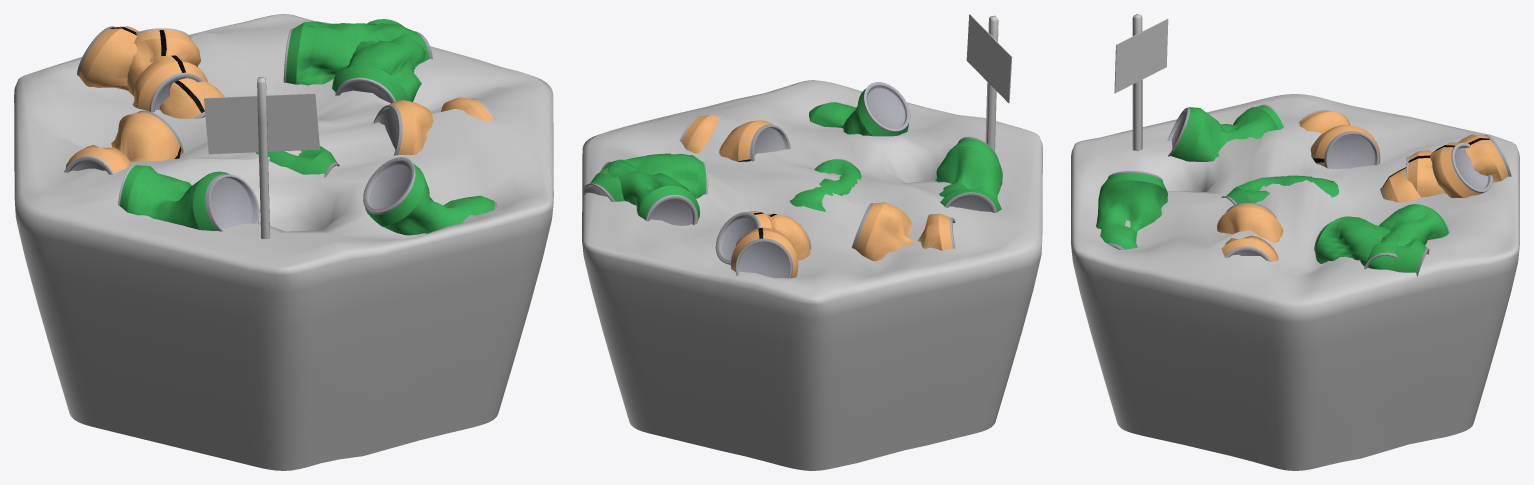
File: Bin-top_MES.fbx
The picture shows the model from 3 angles, left to right: view 1: azimuth 30°, elevation 25°; view 2: azimuth 150°, elevation 25°; view 3: azimuth 270°, elevation 25°; orthographic projection. The views are drawn at different scales.
Parts seen in each view (by area): view 1: BinTop, LINK_CrushedCan.009|CrushedCan.003_L_LINK_CrushedCan.blend|D, Sign-display, LINK_CrushedCan.008|CrushedCan.003_L_LINK_CrushedCan.blend|D, LINK_CrushedCan.001|CrushedCan.001_L_LINK_CrushedCan.blend|D, LINK_CrushedCan.002|CrushedCan.003_L_LINK_CrushedCan.blend|D, LINK_CrushedCan.003|CrushedCan.003_L_LINK_CrushedCan.blend|D, LINK_CrushedCan.007|CrushedCan.001_L_LINK_CrushedCan.blend|D, LINK_CrushedCan.004|CrushedCan.001_L_LINK_CrushedCan.blend|D, LINK_CrushedCan.006|CrushedCan.001_L_LINK_CrushedCan.blend|D, Sign-post, LINK_CrushedCan.005|CrushedCan.003_L_LINK_CrushedCan.blend|D; view 2: BinTop, LINK_CrushedCan.009|CrushedCan.003_L_LINK_CrushedCan.blend|D, LINK_CrushedCan.001|CrushedCan.001_L_LINK_CrushedCan.blend|D, LINK_CrushedCan.008|CrushedCan.003_L_LINK_CrushedCan.blend|D, LINK_CrushedCan.007|CrushedCan.001_L_LINK_CrushedCan.blend|D, LINK_CrushedCan.002|CrushedCan.003_L_LINK_CrushedCan.blend|D, LINK_CrushedCan.006|CrushedCan.001_L_LINK_CrushedCan.blend|D, LINK_CrushedCan.003|CrushedCan.003_L_LINK_CrushedCan.blend|D, Sign-display, LINK_CrushedCan.005|CrushedCan.003_L_LINK_CrushedCan.blend|D, LINK_CrushedCan.004|CrushedCan.001_L_LINK_CrushedCan.blend|D, Sign-post; view 3: BinTop, LINK_CrushedCan.008|CrushedCan.003_L_LINK_CrushedCan.blend|D, LINK_CrushedCan.009|CrushedCan.003_L_LINK_CrushedCan.blend|D, LINK_CrushedCan.003|CrushedCan.003_L_LINK_CrushedCan.blend|D, LINK_CrushedCan.007|CrushedCan.001_L_LINK_CrushedCan.blend|D, LINK_CrushedCan.004|CrushedCan.001_L_LINK_CrushedCan.blend|D, LINK_CrushedCan.006|CrushedCan.001_L_LINK_CrushedCan.blend|D, LINK_CrushedCan.001|CrushedCan.001_L_LINK_CrushedCan.blend|D, Sign-display, LINK_CrushedCan.002|CrushedCan.003_L_LINK_CrushedCan.blend|D, LINK_CrushedCan.005|CrushedCan.003_L_LINK_CrushedCan.blend|D, Sign-post.
Part boxes in pixels (<box>): BinTop: <box>14,14,553,470</box>; LINK_CrushedCan.009|CrushedCan.003_L_LINK_CrushedCan.blend|D: <box>118,164,259,231</box>; Sign-display: <box>204,93,319,154</box>; LINK_CrushedCan.008|CrushedCan.003_L_LINK_CrushedCan.blend|D: <box>363,157,497,235</box>; LINK_CrushedCan.001|CrushedCan.001_L_LINK_CrushedCan.blend|D: <box>77,26,207,112</box>; LINK_CrushedCan.002|CrushedCan.003_L_LINK_CrushedCan.blend|D: <box>283,21,432,85</box>; LINK_CrushedCan.003|CrushedCan.003_L_LINK_CrushedCan.blend|D: <box>332,19,426,103</box>; LINK_CrushedCan.007|CrushedCan.001_L_LINK_CrushedCan.blend|D: <box>64,110,183,174</box>; LINK_CrushedCan.004|CrushedCan.001_L_LINK_CrushedCan.blend|D: <box>127,28,224,118</box>; LINK_CrushedCan.006|CrushedCan.001_L_LINK_CrushedCan.blend|D: <box>373,97,496,155</box>; Sign-post: <box>257,77,270,238</box>; LINK_CrushedCan.005|CrushedCan.003_L_LINK_CrushedCan.blend|D: <box>256,146,339,177</box>; BinTop: <box>582,80,1042,470</box>; LINK_CrushedCan.009|CrushedCan.003_L_LINK_CrushedCan.blend|D: <box>935,136,1002,212</box>; LINK_CrushedCan.001|CrushedCan.001_L_LINK_CrushedCan.blend|D: <box>731,213,811,278</box>; LINK_CrushedCan.008|CrushedCan.003_L_LINK_CrushedCan.blend|D: <box>809,82,910,136</box>; LINK_CrushedCan.007|CrushedCan.001_L_LINK_CrushedCan.blend|D: <box>851,202,955,261</box>; LINK_CrushedCan.002|CrushedCan.003_L_LINK_CrushedCan.blend|D: <box>600,159,700,225</box>; LINK_CrushedCan.006|CrushedCan.001_L_LINK_CrushedCan.blend|D: <box>680,114,790,161</box>; LINK_CrushedCan.003|CrushedCan.003_L_LINK_CrushedCan.blend|D: <box>583,153,708,201</box>; Sign-display: <box>966,14,1012,103</box>; LINK_CrushedCan.005|CrushedCan.003_L_LINK_CrushedCan.blend|D: <box>789,159,861,211</box>; LINK_CrushedCan.004|CrushedCan.001_L_LINK_CrushedCan.blend|D: <box>715,211,785,265</box>; Sign-post: <box>985,15,998,151</box>; BinTop: <box>1071,94,1519,470</box>; LINK_CrushedCan.008|CrushedCan.003_L_LINK_CrushedCan.blend|D: <box>1096,171,1167,249</box>; LINK_CrushedCan.009|CrushedCan.003_L_LINK_CrushedCan.blend|D: <box>1167,104,1284,161</box>; LINK_CrushedCan.003|CrushedCan.003_L_LINK_CrushedCan.blend|D: <box>1314,216,1429,276</box>; LINK_CrushedCan.007|CrushedCan.001_L_LINK_CrushedCan.blend|D: <box>1299,110,1380,169</box>; LINK_CrushedCan.004|CrushedCan.001_L_LINK_CrushedCan.blend|D: <box>1380,142,1492,202</box>; LINK_CrushedCan.006|CrushedCan.001_L_LINK_CrushedCan.blend|D: <box>1217,202,1283,261</box>; LINK_CrushedCan.001|CrushedCan.001_L_LINK_CrushedCan.blend|D: <box>1406,134,1511,197</box>; Sign-display: <box>1114,18,1168,93</box>; LINK_CrushedCan.002|CrushedCan.003_L_LINK_CrushedCan.blend|D: <box>1360,204,1449,269</box>; LINK_CrushedCan.005|CrushedCan.003_L_LINK_CrushedCan.blend|D: <box>1221,175,1338,204</box>; Sign-post: <box>1132,14,1142,151</box>.
Bounding box in the file's own units: 34.63 × 24.62 × 30.84.
